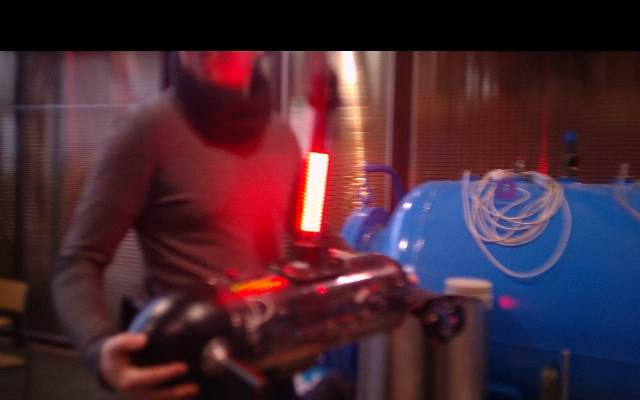red: (295, 151, 332, 236)
